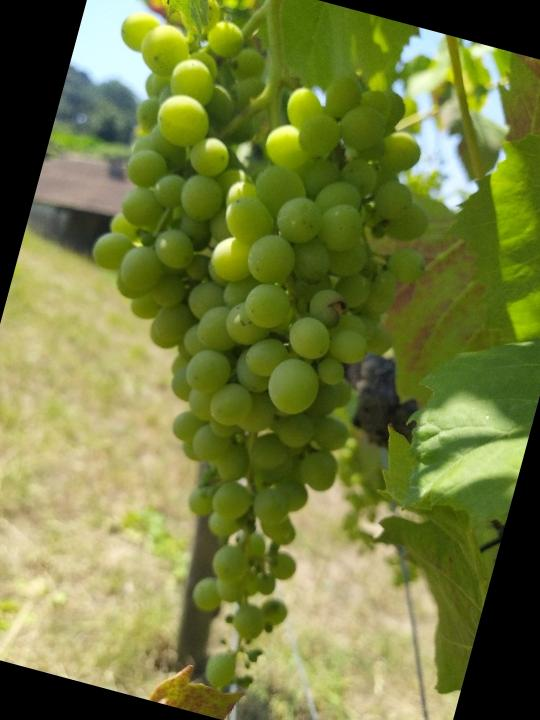grape: (0, 0, 477, 716)
